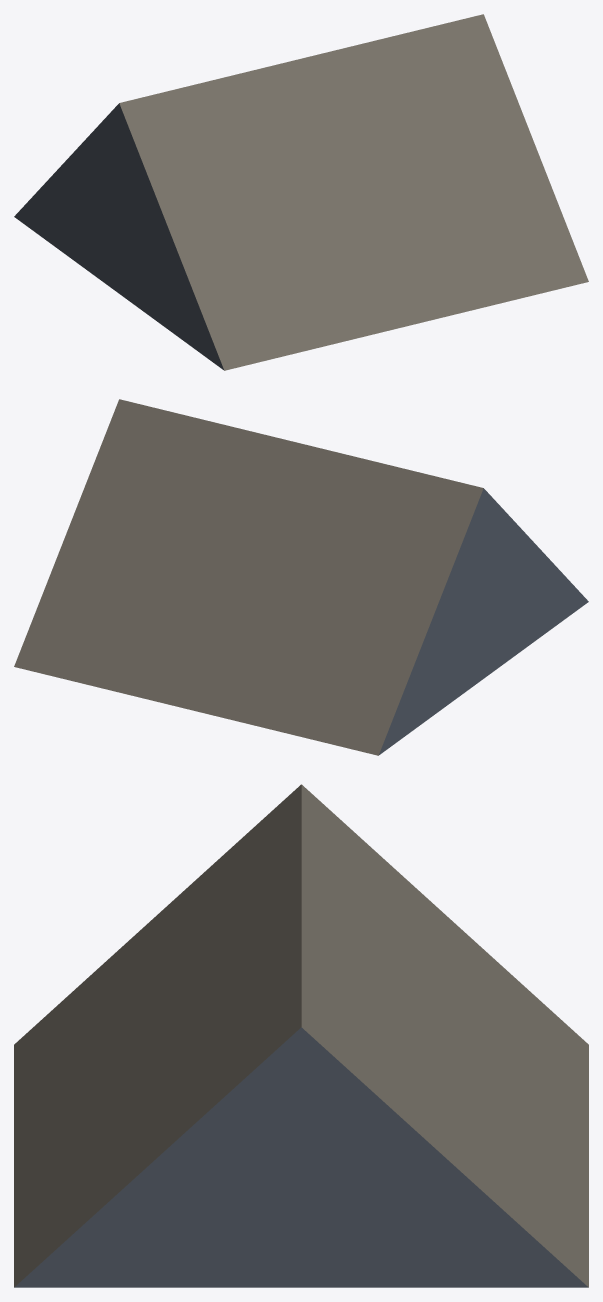
File: Bump.fbx
3 views of the same model, one above another, from view 1: azimuth 30°, elevation 25°; view 2: azimuth 150°, elevation 25°; view 3: azimuth 270°, elevation 25° (orthographic). The views are drawn at different scales.
Visible parts, largest first — view 1: Mesh; view 2: Mesh; view 3: Mesh.
Part boxes in pixels (left/top/right/bottom): Mesh: left=14, top=14, right=588, bottom=370; Mesh: left=14, top=399, right=588, bottom=755; Mesh: left=14, top=784, right=588, bottom=1287.
Size of the model in its own units: 100 by 50 by 100.
